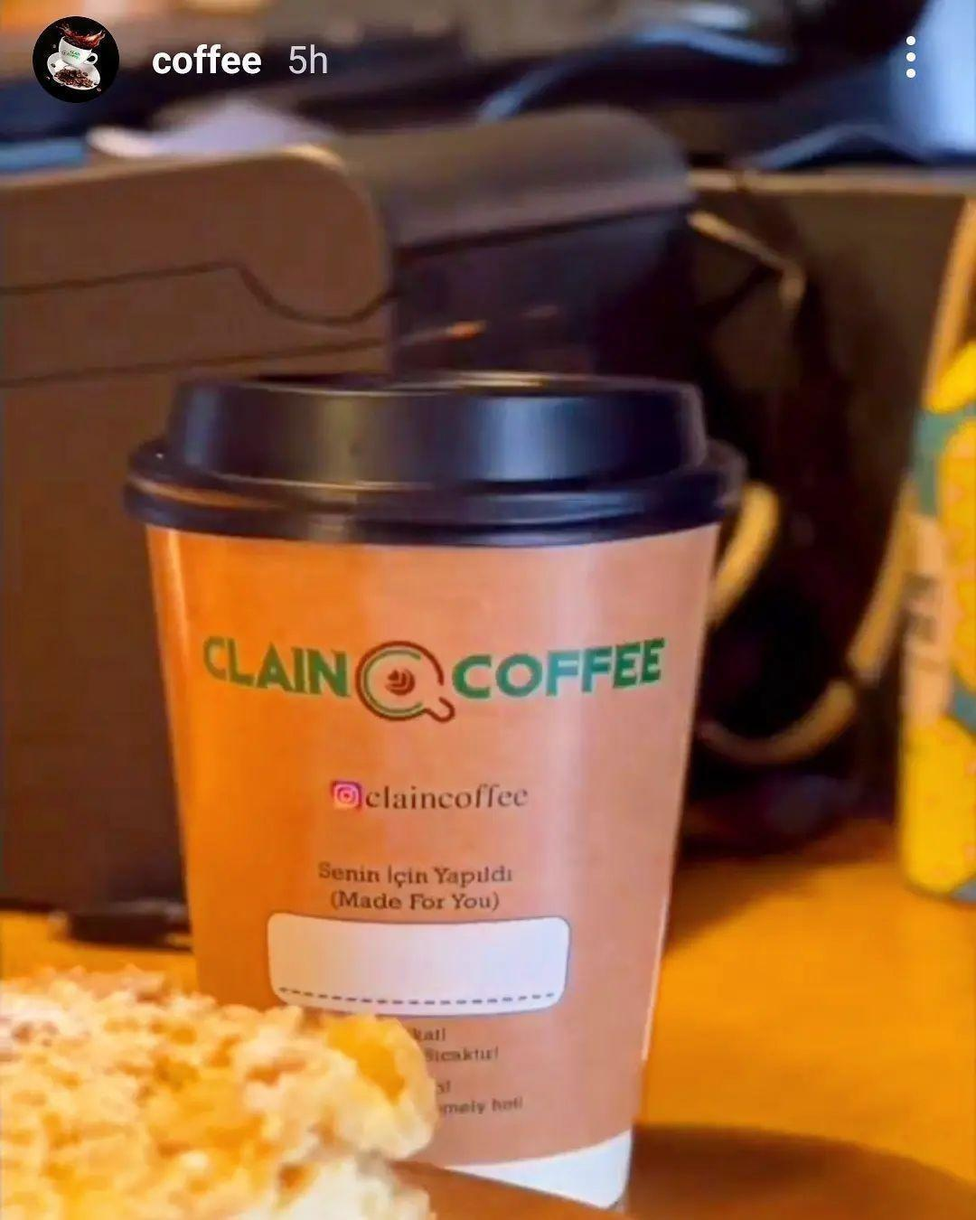cup-disposable: (119, 348, 746, 1220)
